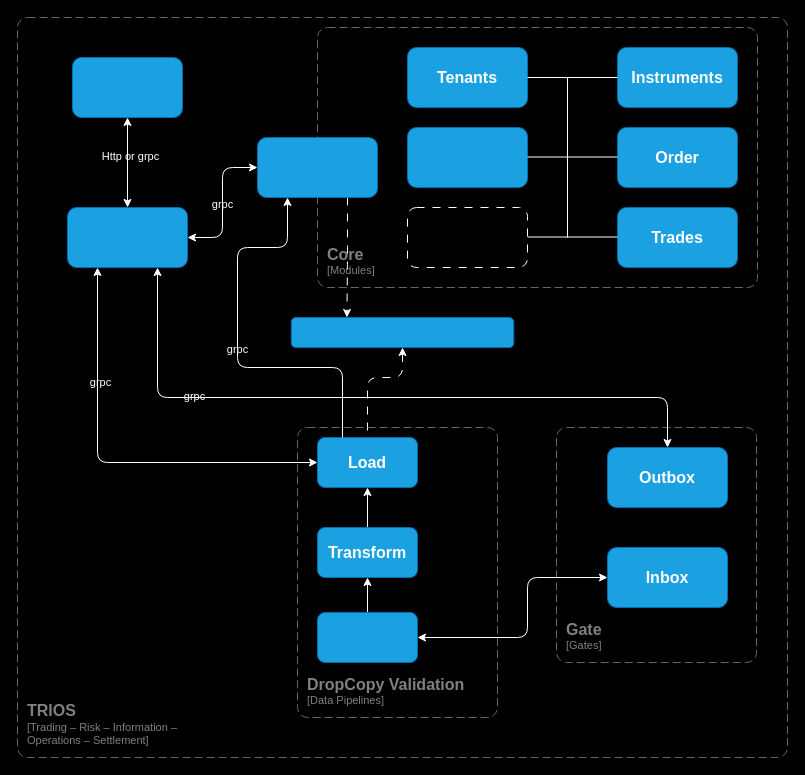
This 805x775 diagram has some shape labels left out. The centre of each missing label's shape, as x and y in pixels:
"Core.Api" goes at (x=317, y=167).
"Extract" goes at (x=367, y=637).
"Trios.Api" goes at (x=127, y=237).
"Trios.App" goes at (x=127, y=87).
"Trios.Protocol" goes at (x=402, y=332).
"Users" goes at (x=467, y=157).
